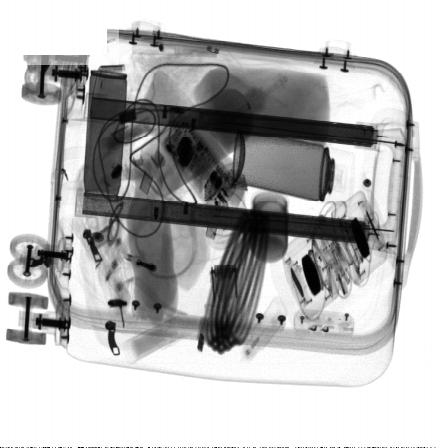Sprayer: (232, 130, 356, 206)
